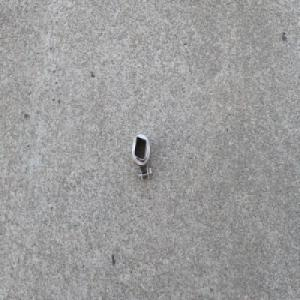MetalPart: (130, 132, 153, 183)
